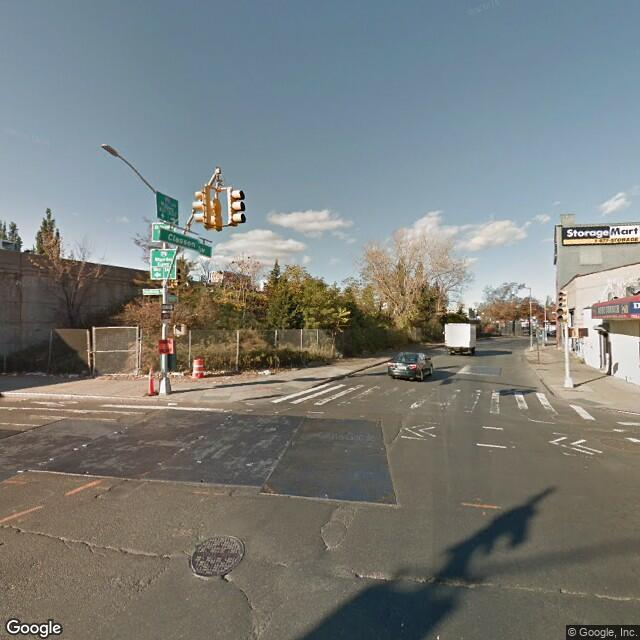litter: (253, 362, 280, 381)
